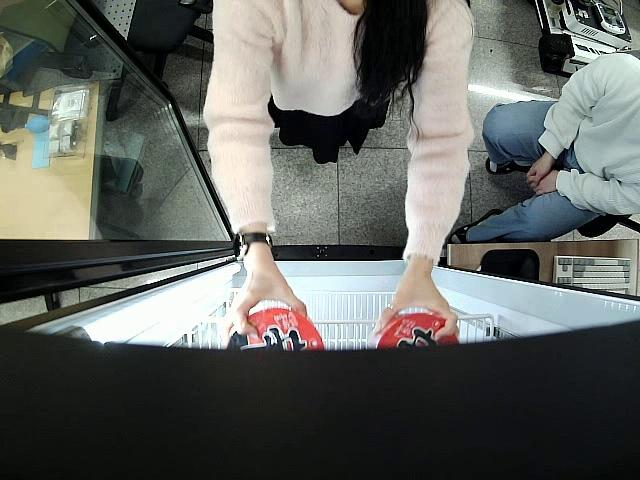00_hand: (221, 254, 306, 336), (373, 261, 457, 340)
01_shinRamen_L: (224, 306, 329, 354), (373, 313, 457, 349)
